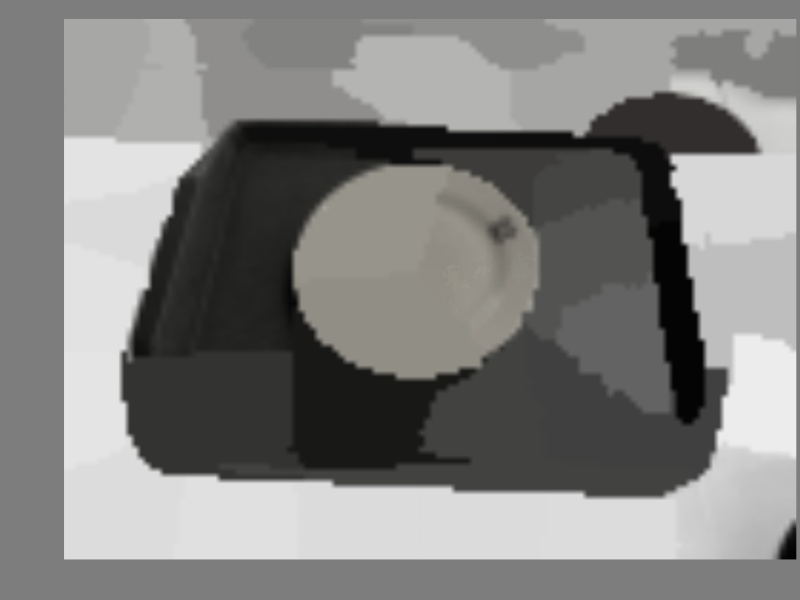dish10: (286, 158, 546, 381)
